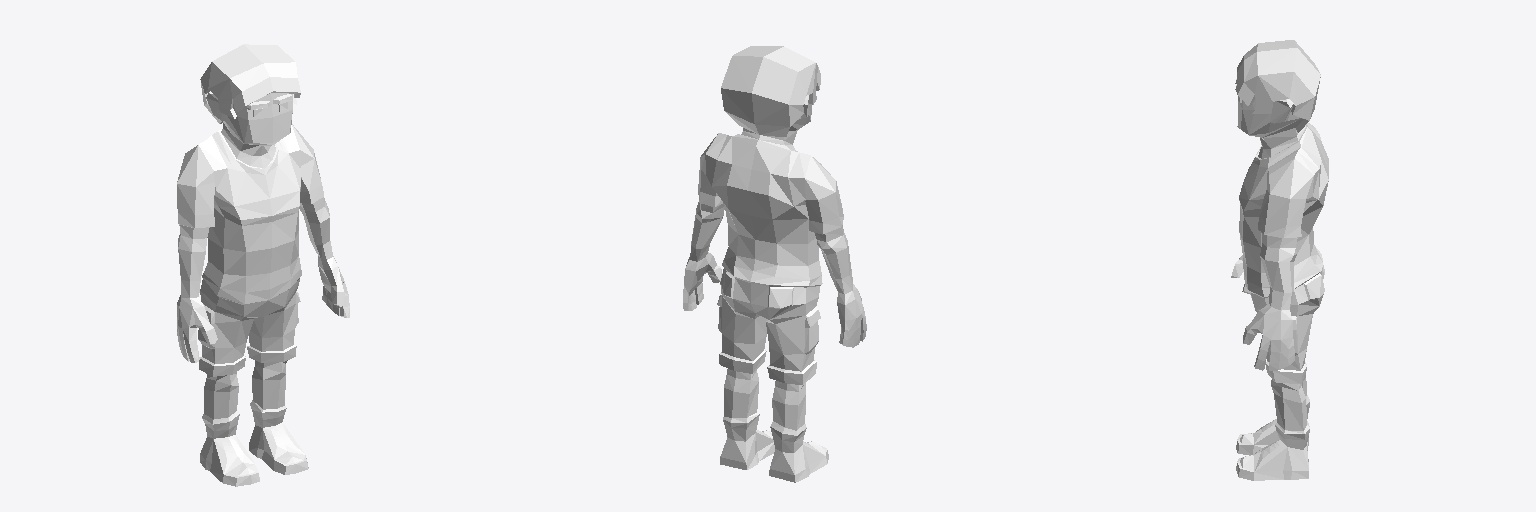
Rendered from Kid.obj.
The picture shows the model from 3 angles: view 1: azimuth 30°, elevation 25°; view 2: azimuth 150°, elevation 25°; view 3: azimuth 270°, elevation 25°; orthographic projection.
Visible parts, largest first — view 1: SM_Chr_Kid_Casual_04_Mesh.103; view 2: SM_Chr_Kid_Casual_04_Mesh.103; view 3: SM_Chr_Kid_Casual_04_Mesh.103.
Part boxes in pixels (left/top/right/bottom): SM_Chr_Kid_Casual_04_Mesh.103: left=177, top=44, right=349, bottom=486; SM_Chr_Kid_Casual_04_Mesh.103: left=683, top=46, right=866, bottom=482; SM_Chr_Kid_Casual_04_Mesh.103: left=1231, top=40, right=1328, bottom=480.
Bounding box in the file's own units: 0.4998 × 1.18 × 0.253.